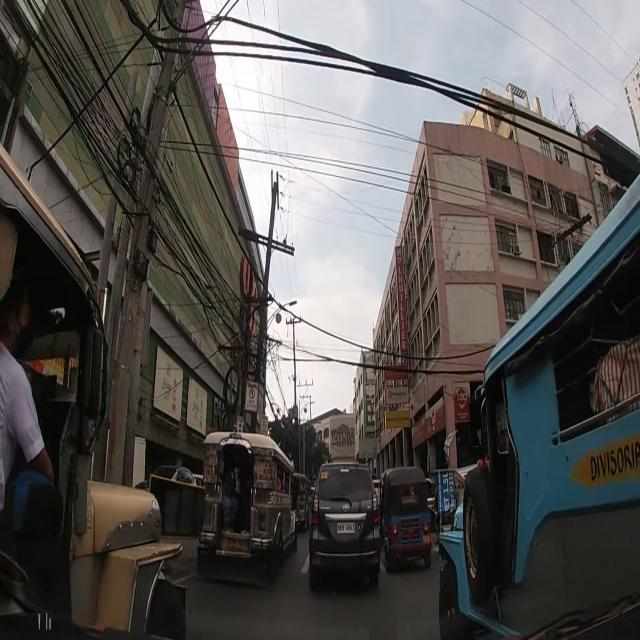car: (310, 461, 380, 586)
jeepney: (441, 145, 640, 630), (0, 140, 190, 637), (197, 428, 300, 584)
tricycle: (378, 467, 434, 572)
